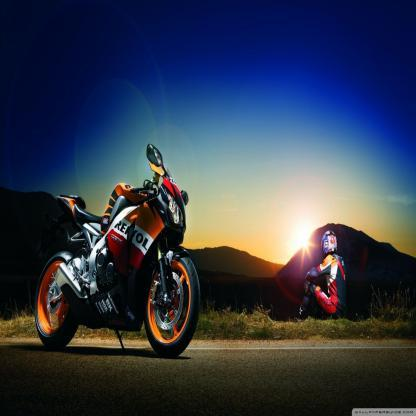Motorcycle: (29, 138, 198, 357)
